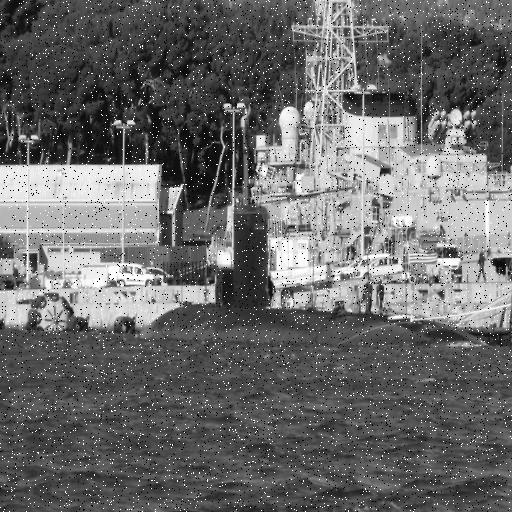submarine: (146, 123, 492, 348)
